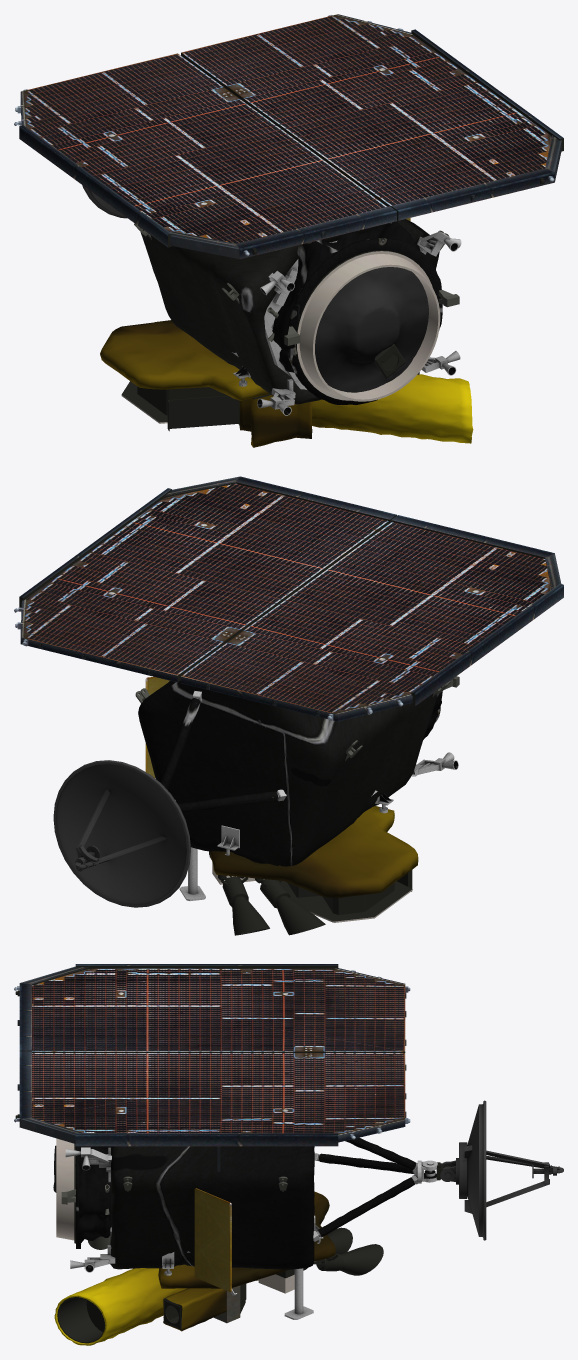
File: EPOXI2.glb
3 views of the same model, one above another, from view 1: azimuth 30°, elevation 25°; view 2: azimuth 150°, elevation 25°; view 3: azimuth 270°, elevation 25° (orthographic). The views are drawn at different scales.
Parts seen in each view (by area): view 1: shiny_panels, foil_gold, tex_01, black_krinkle, foil_silver_I, tex_01_I, black_krinkle_I, hole_AO; view 2: shiny_panels, black_krinkle, tex_01, dish_AO, foil_gold, hole_AO; view 3: shiny_panels, black_krinkle, tex_01, foil_gold, dish_AO, hole_AO, black_krinkle_I, tex_01_I.
Part boxes in pixels (x1=…): shiny_panels: x1=20, y1=14, x2=551, y2=243; foil_gold: x1=100, y1=320, x2=473, y2=447; tex_01: x1=14, y1=15, x2=563, y2=431; black_krinkle: x1=140, y1=219, x2=439, y2=404; foil_silver_I: x1=315, y1=267, x2=428, y2=392; tex_01_I: x1=267, y1=222, x2=459, y2=401; black_krinkle_I: x1=272, y1=221, x2=442, y2=404; hole_AO: x1=233, y1=231, x2=461, y2=415; shiny_panels: x1=20, y1=483, x2=551, y2=714; black_krinkle: x1=138, y1=680, x2=438, y2=866; tex_01: x1=14, y1=476, x2=563, y2=935; dish_AO: x1=53, y1=760, x2=190, y2=907; foil_gold: x1=209, y1=806, x2=418, y2=897; hole_AO: x1=175, y1=691, x2=458, y2=900; shiny_panels: x1=32, y1=968, x2=405, y2=1136; black_krinkle: x1=110, y1=1137, x2=415, y2=1269; tex_01: x1=14, y1=964, x2=450, y2=1343; foil_gold: x1=54, y1=1191, x2=335, y2=1345; dish_AO: x1=440, y1=1100, x2=563, y2=1240; hole_AO: x1=65, y1=1147, x2=437, y2=1319; black_krinkle_I: x1=75, y1=1146, x2=111, y2=1248; tex_01_I: x1=56, y1=1138, x2=110, y2=1249.
Size of the model in its own units: 2.88 by 1.99 by 3.91.
9 materials, 8 textured.
